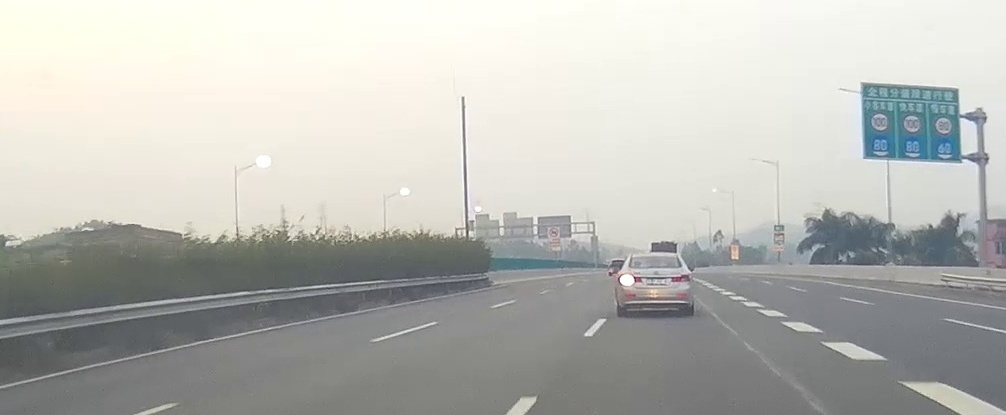L_light: (618, 274, 642, 283)
R_light: (671, 273, 690, 283)
T_light: (651, 254, 661, 256)
day-left: (615, 252, 694, 315)
